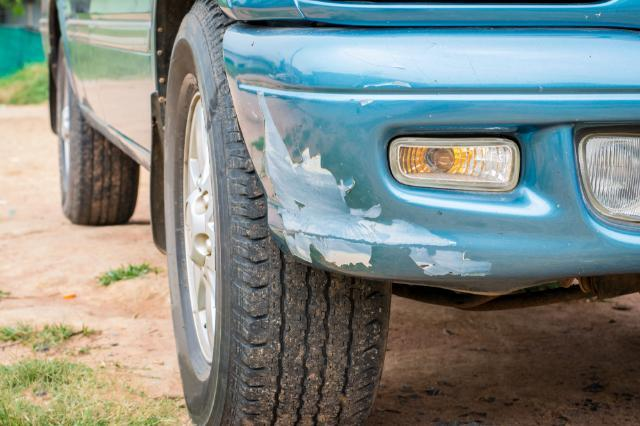scratch: (258, 94, 510, 280)
